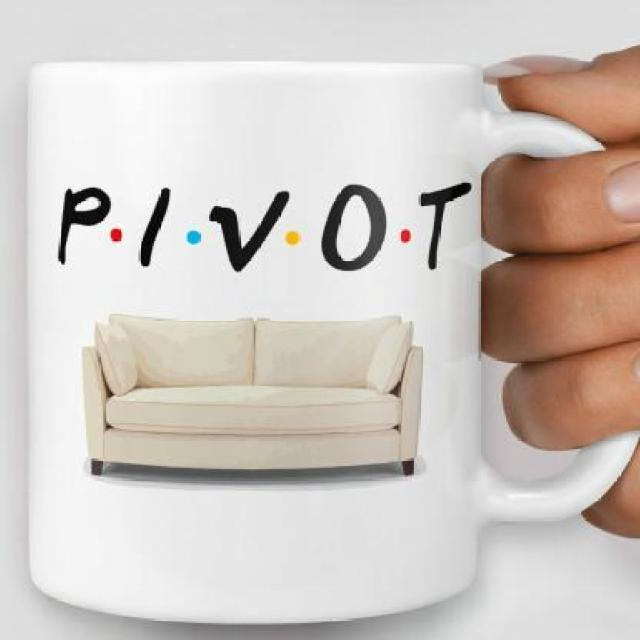taza: (29, 58, 640, 623)
